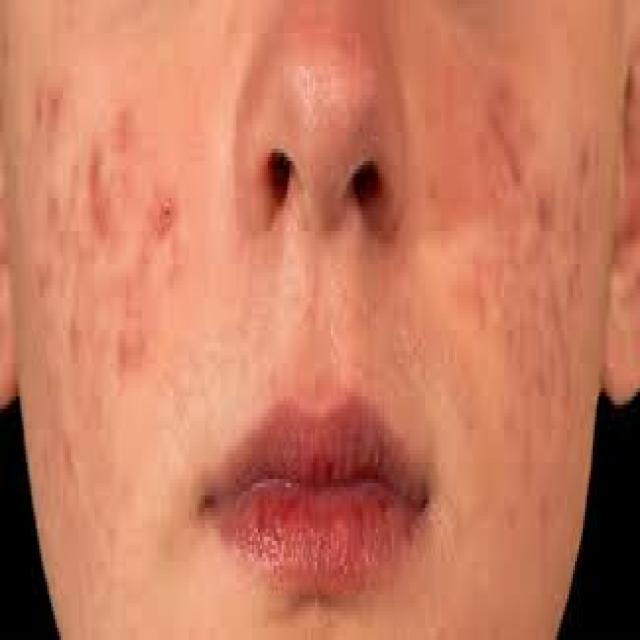Acne: (85, 137, 113, 246), (149, 185, 181, 242)
